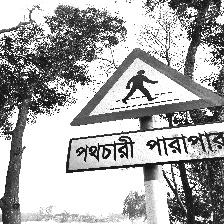Pedestrian-crossing: (67, 47, 224, 174)
